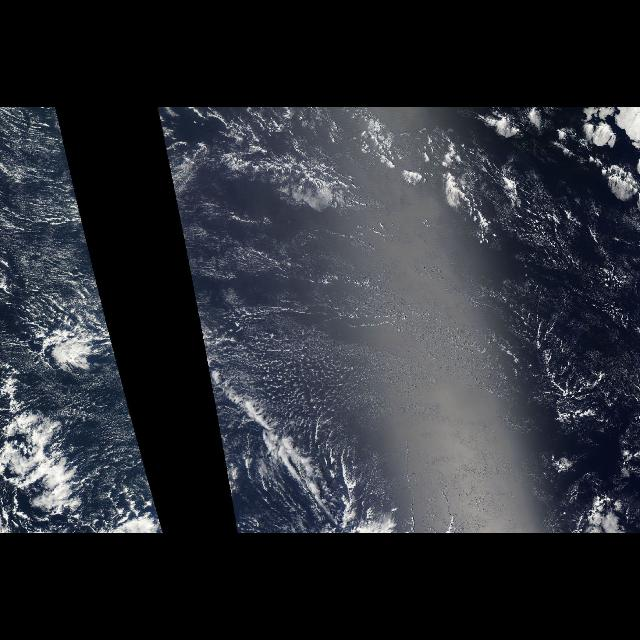Sugar: (0, 108, 150, 490), (215, 286, 430, 499)
